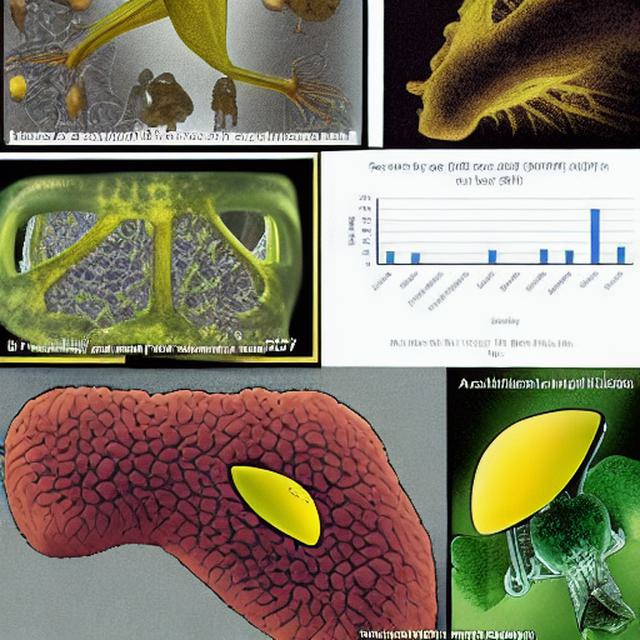Graph: (339, 155, 639, 334)
